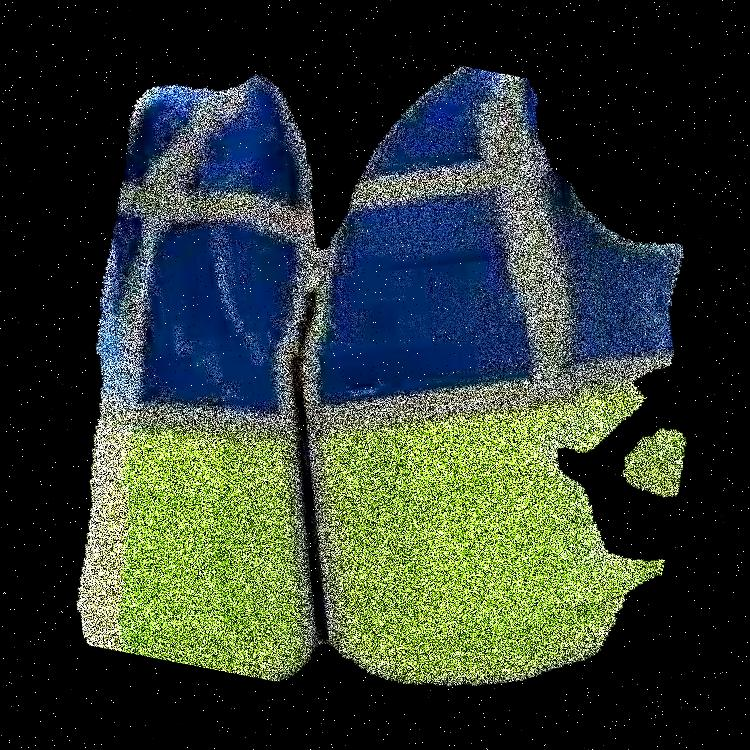Colete: (172, 0, 605, 749)
